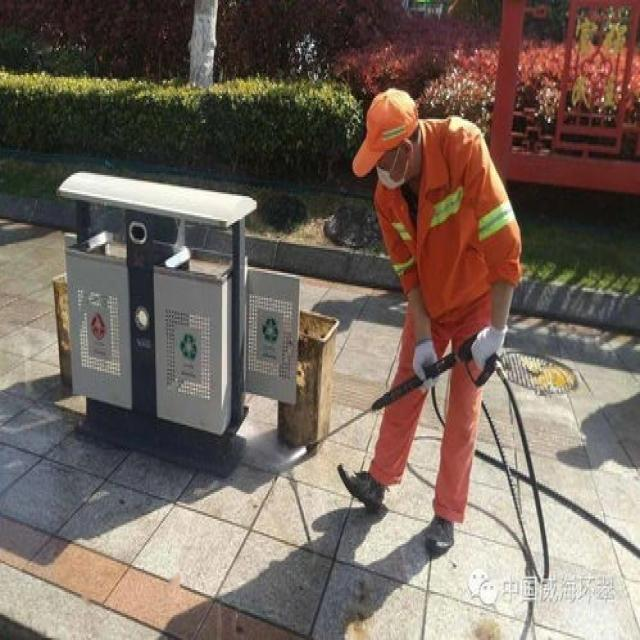garbage_bin: (55, 167, 255, 477)
